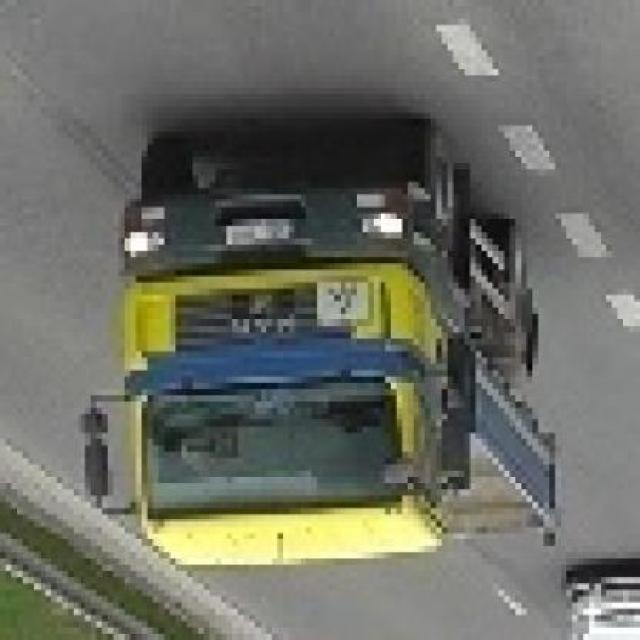truck: (80, 126, 556, 585)
